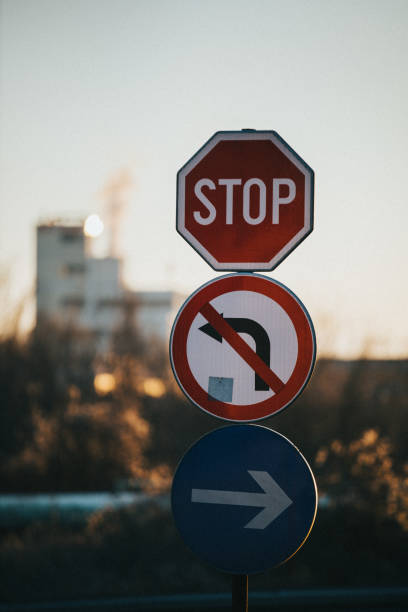sola_girilmez: (166, 272, 315, 422)
